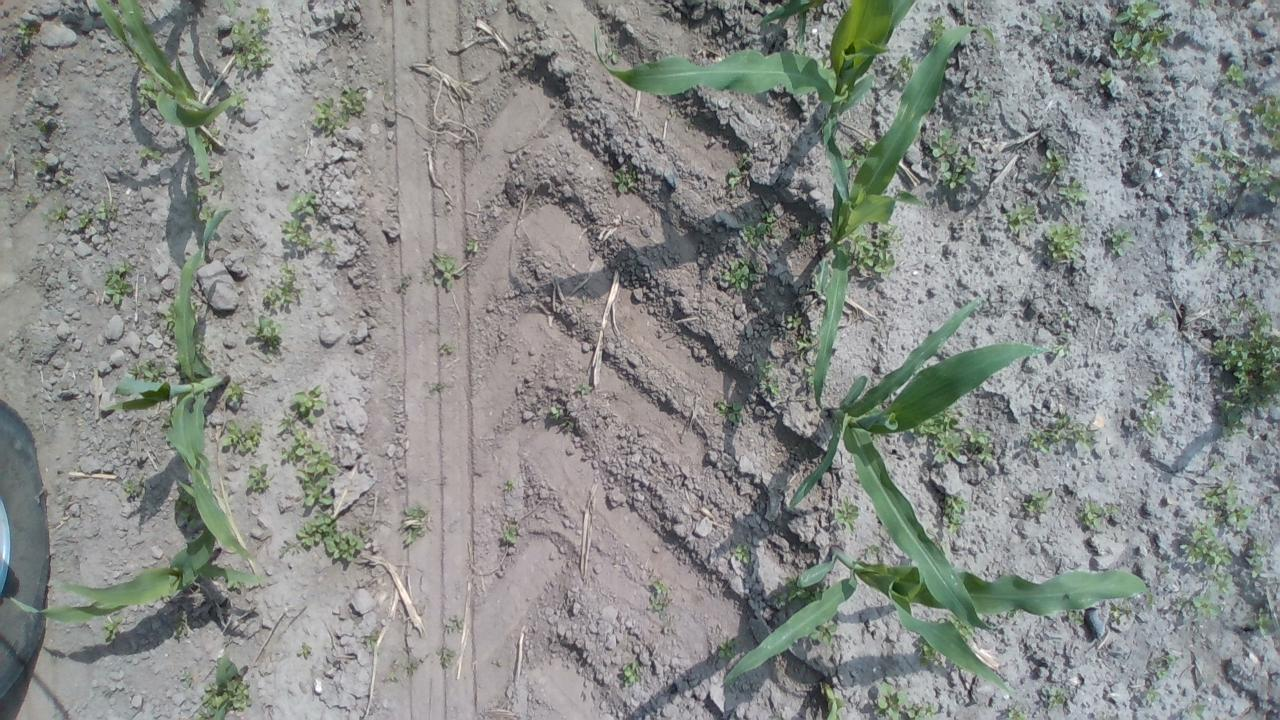Maize: (788, 297, 1062, 632), (812, 23, 996, 409), (592, 1, 916, 202), (719, 544, 1148, 694), (109, 206, 255, 562), (6, 481, 274, 626), (89, 1, 248, 182)
Weeds: (274, 382, 368, 566), (1209, 311, 1279, 436), (902, 400, 994, 468), (1191, 151, 1280, 203), (1113, 1, 1177, 66), (284, 193, 340, 257), (199, 654, 255, 717), (1170, 572, 1234, 620), (933, 129, 983, 190), (844, 221, 900, 275), (230, 5, 274, 73), (873, 679, 943, 719), (914, 614, 972, 660), (1202, 483, 1252, 532), (1135, 381, 1176, 439), (314, 90, 365, 136), (1026, 422, 1092, 452), (1182, 530, 1234, 566), (214, 417, 264, 454), (248, 315, 290, 358), (739, 209, 786, 246), (262, 268, 302, 306), (1044, 224, 1081, 264), (782, 308, 811, 356), (1078, 504, 1124, 532), (944, 491, 972, 537), (432, 253, 468, 288), (48, 205, 113, 224), (1242, 538, 1270, 582), (1145, 655, 1177, 693), (402, 506, 428, 550), (104, 262, 131, 304), (1258, 99, 1280, 146), (1221, 243, 1264, 267), (1007, 203, 1039, 234), (646, 578, 672, 615), (833, 498, 861, 532), (718, 260, 750, 288), (1188, 222, 1214, 255), (1100, 231, 1135, 254), (1252, 610, 1280, 638), (727, 158, 751, 190), (712, 400, 744, 424), (1056, 178, 1088, 202), (759, 360, 778, 398), (222, 380, 248, 407), (244, 464, 270, 490), (1022, 490, 1050, 514), (1038, 151, 1067, 171), (135, 144, 167, 162), (100, 615, 120, 642), (1038, 684, 1067, 702), (610, 170, 634, 190), (718, 637, 738, 660), (18, 16, 34, 44), (620, 662, 638, 686), (1227, 64, 1245, 88), (1000, 705, 1028, 720), (444, 615, 464, 633), (734, 541, 754, 559), (1039, 12, 1059, 30), (463, 236, 482, 254), (503, 524, 520, 544), (438, 648, 454, 668), (798, 222, 812, 244), (1098, 66, 1113, 84), (222, 1, 237, 16)
